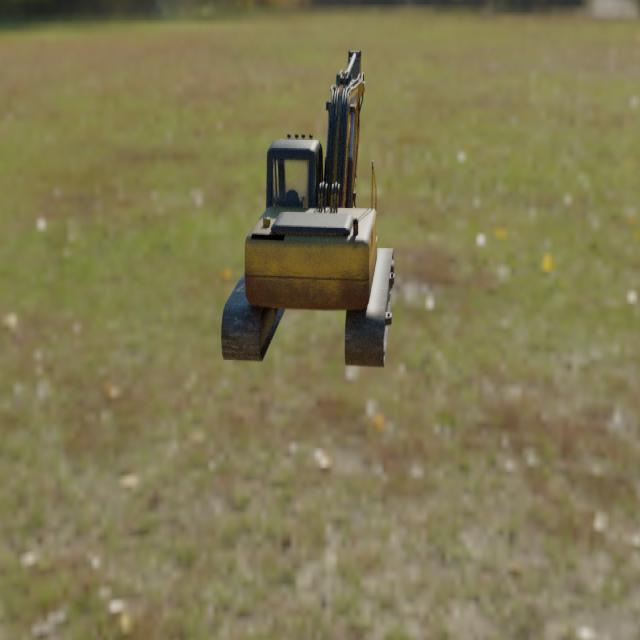excavator: (220, 49, 394, 367)
